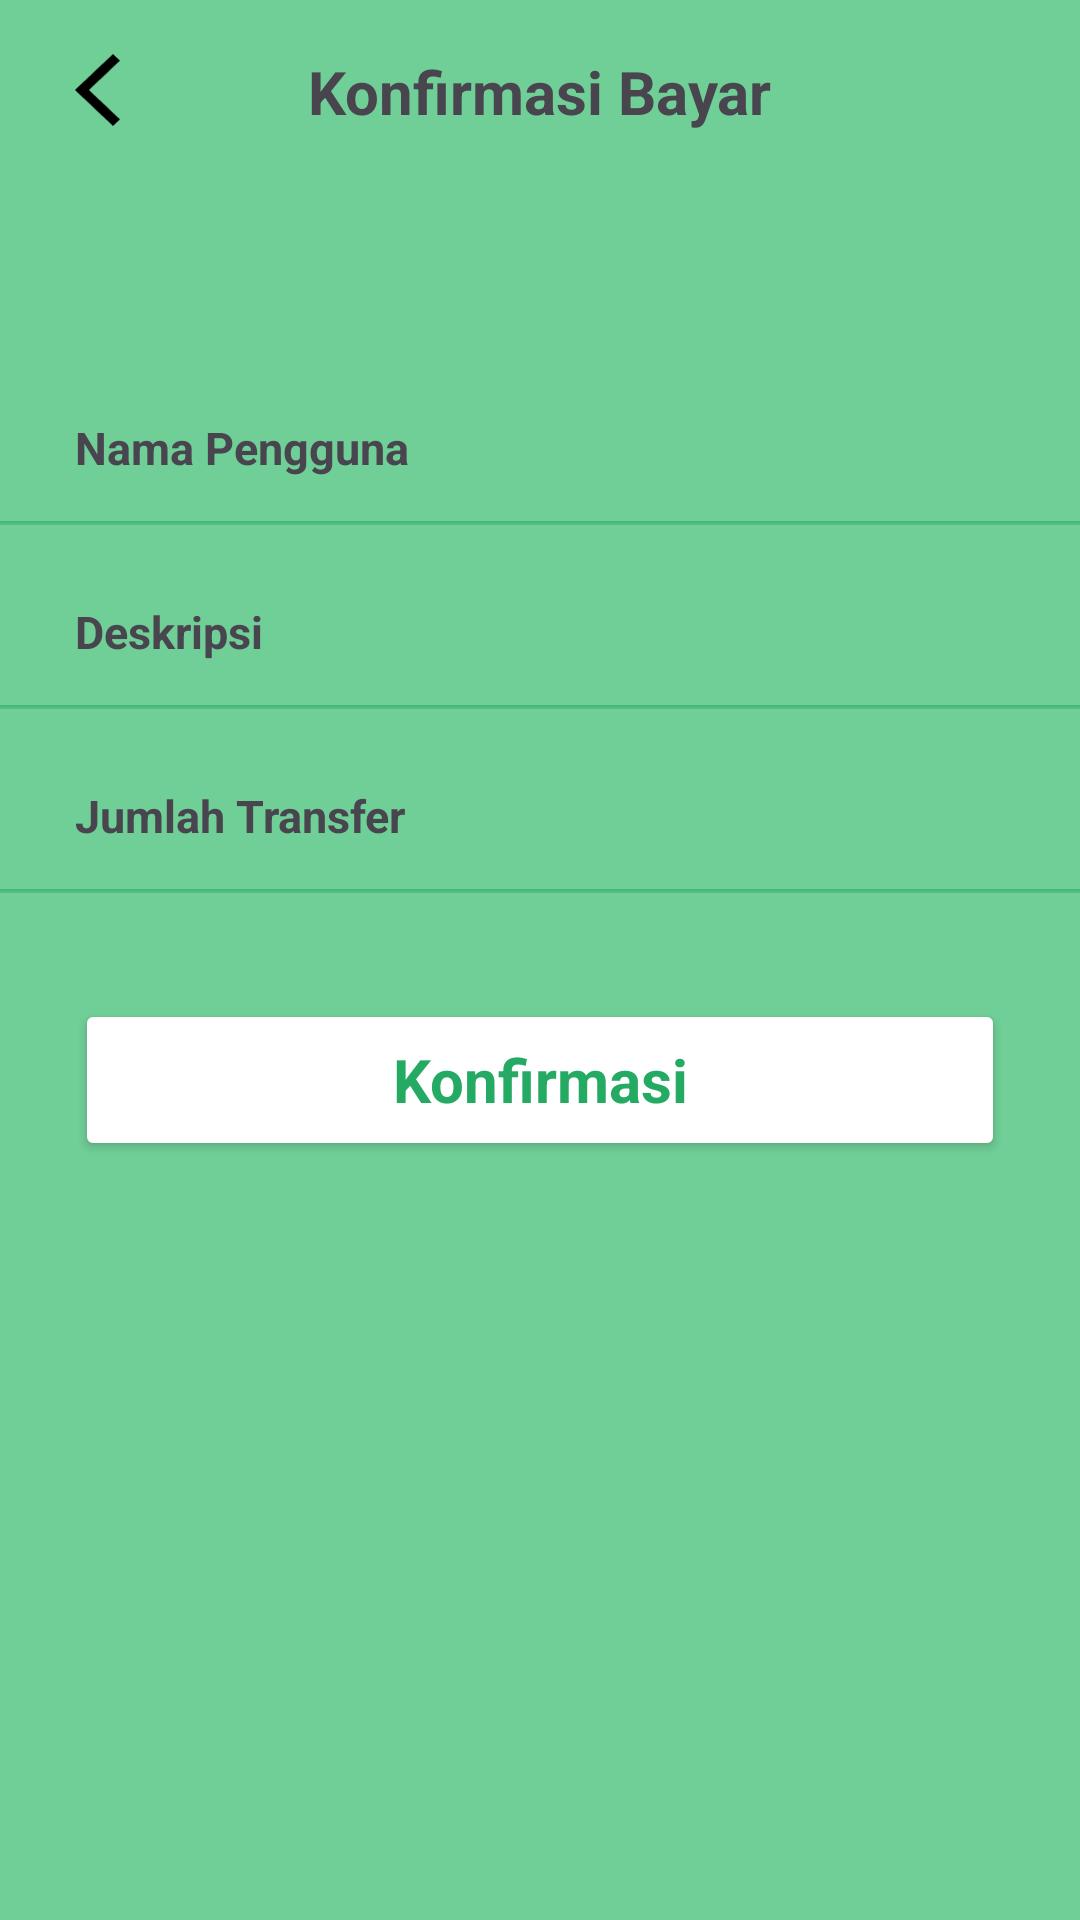

Icon bounding boxes for this 1080w x 1920h phone screenshot, format (x1, y1, x2, y2):
iconback: (75, 54, 120, 126)
